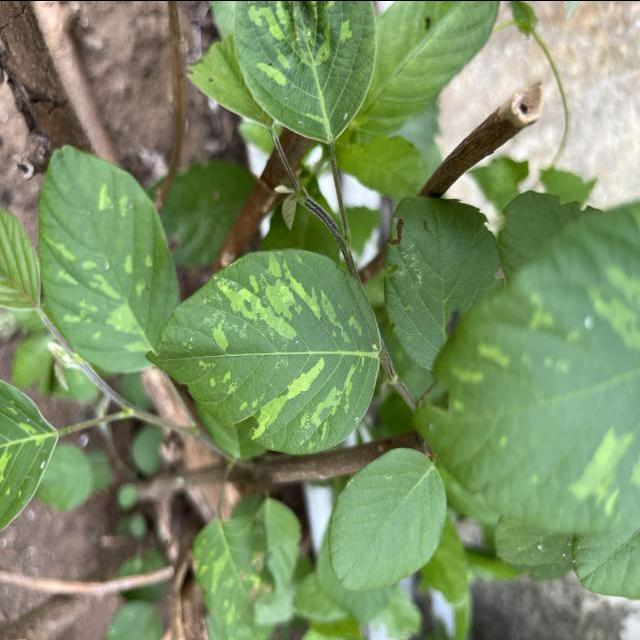Desmodium gangeticum: (141, 242, 387, 460)
